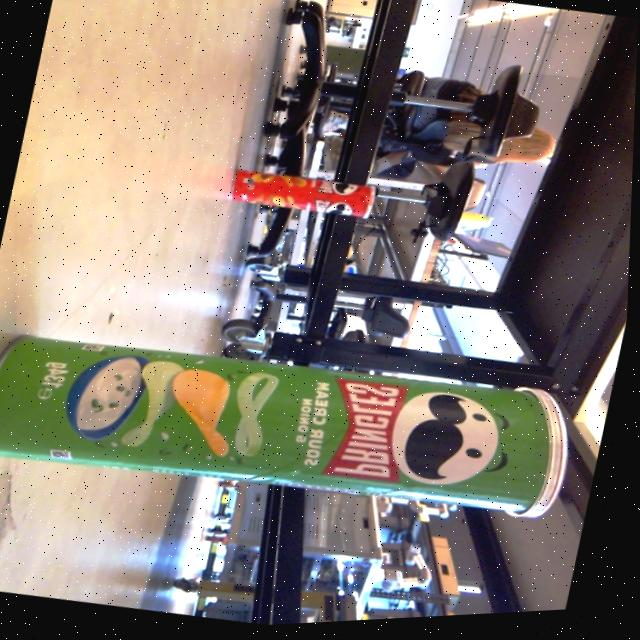greenpringles: (0, 286, 603, 569)
redpringles: (213, 149, 394, 240)
